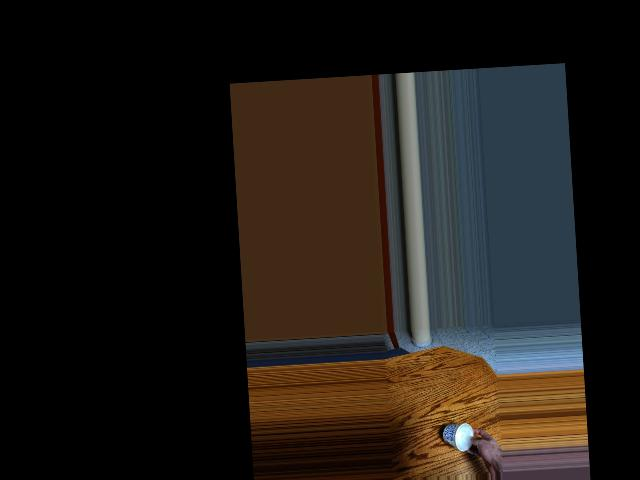cotage: (439, 422, 474, 447)
